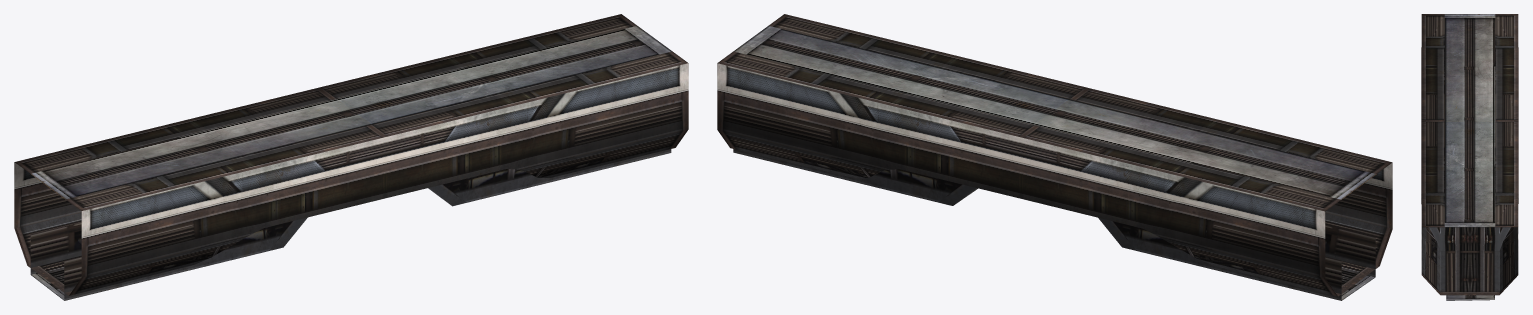
Rendered from BeamDark_A_01.fbx.
3 renders of one model, left to right at view 1: azimuth 30°, elevation 25°; view 2: azimuth 150°, elevation 25°; view 3: azimuth 270°, elevation 25°, orthographic. The views are drawn at different scales.
Parts seen in each view (by area): view 1: Beam_01; view 2: Beam_01; view 3: Beam_01.
Part boxes in pixels (x1,y1,x2,y2): Beam_01: (14,14,688,300); Beam_01: (717,14,1392,300); Beam_01: (1421,14,1518,300).
Bounding box in the file's own units: 500 × 80.61 × 96.26.
Materials: 1 (1 with a texture image).
